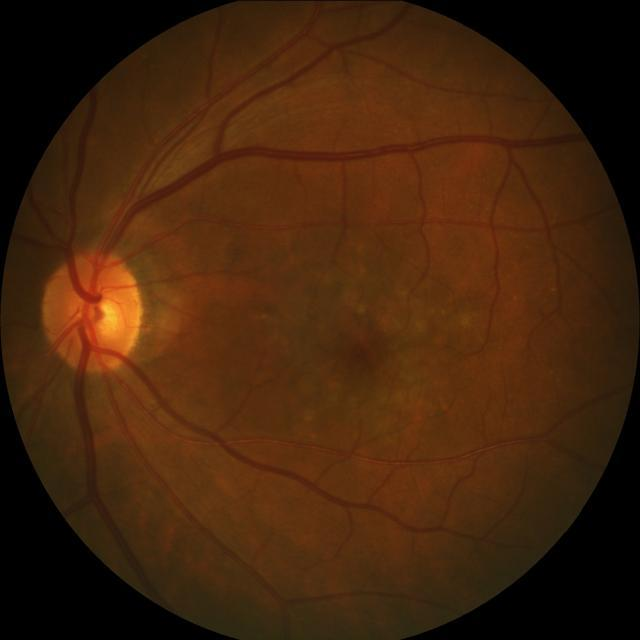OC: (84, 300, 119, 332)
OD: (40, 249, 142, 372)
